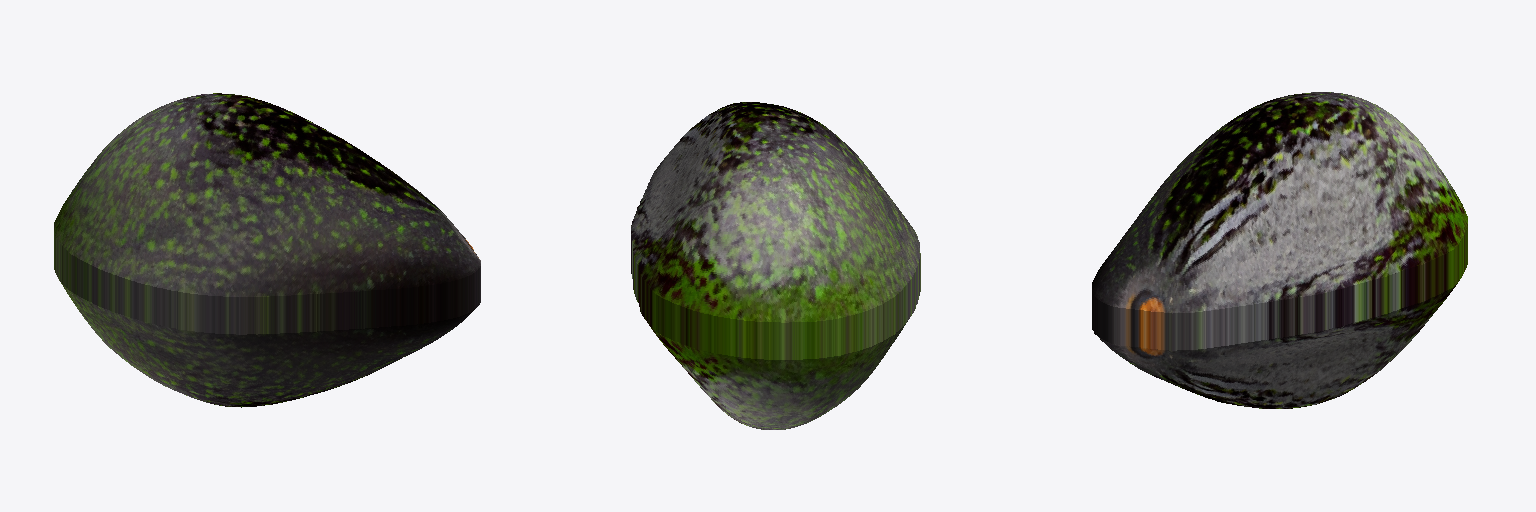
3 views of the same model, side by side, from view 1: azimuth 30°, elevation 25°; view 2: azimuth 150°, elevation 25°; view 3: azimuth 270°, elevation 25° (orthographic).
Parts seen in each view (by area): view 1: Grid; view 2: Grid; view 3: Grid.
Boxes of the visible parts, <box> form: Grid: <box>54,93,480,407</box>; Grid: <box>631,102,920,429</box>; Grid: <box>1092,92,1467,408</box>.
Size of the model in its own units: 1.75 by 1.6 by 1.83.
1 materials, 1 textured.